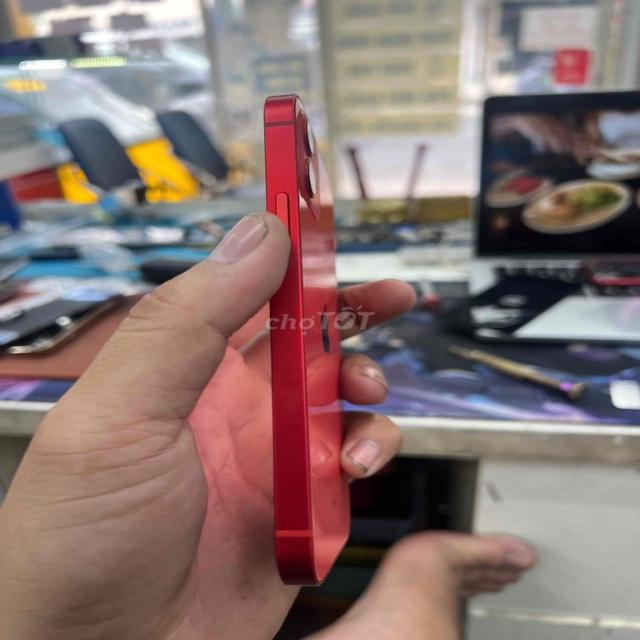gen_12_13: (247, 88, 372, 598)
